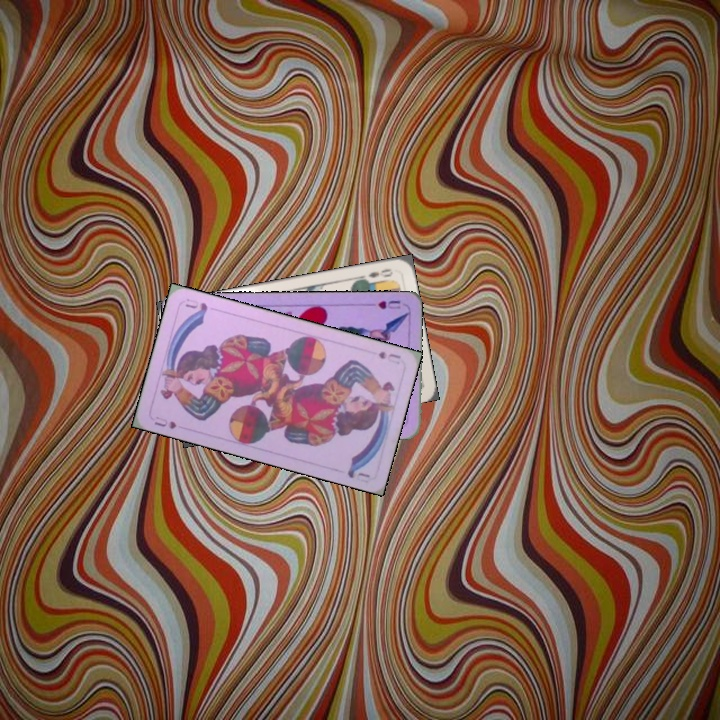EO: (358, 265, 395, 285)
HU: (365, 296, 403, 312)
SU: (375, 347, 403, 367), (150, 412, 179, 431)
